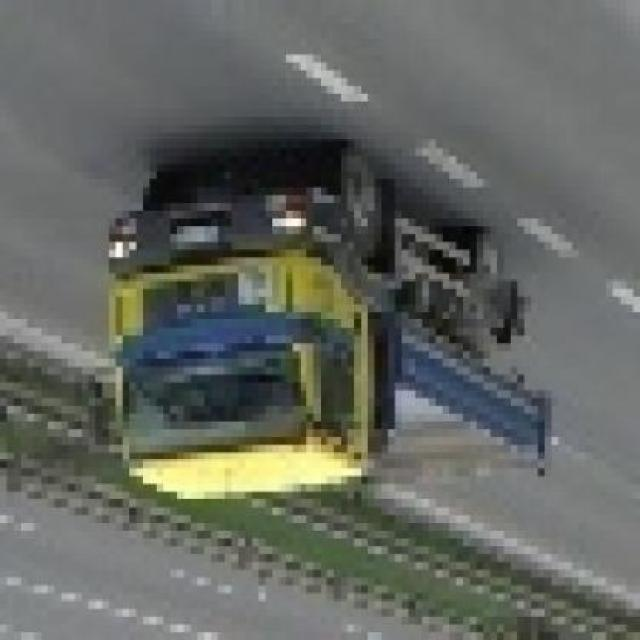truck: (104, 157, 553, 517)
